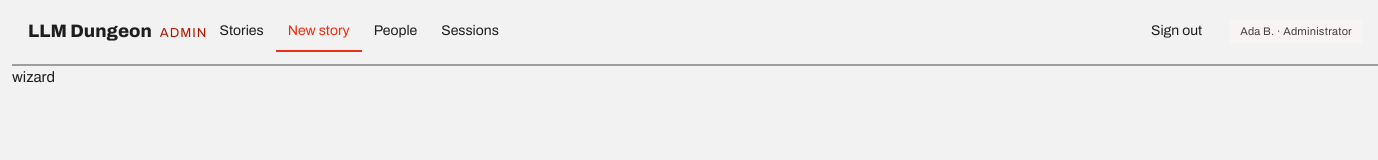
Reaching any section from the wizard in one click (US1, SC-001) › reaches Stories from the wizard without a back button
Click the link "Stories".
click(242, 30)  # box x1=220 y1=23 x2=264 y2=38
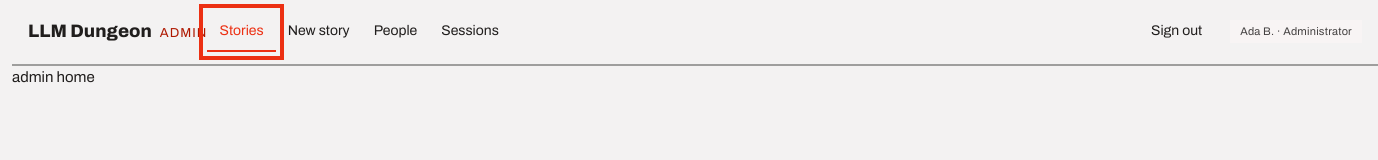
Expected: the link "New story" is shown, x1=288 y1=23 x2=350 y2=38
Expected: the text "admin home" is shown, x1=12 y1=69 x2=95 y2=85
